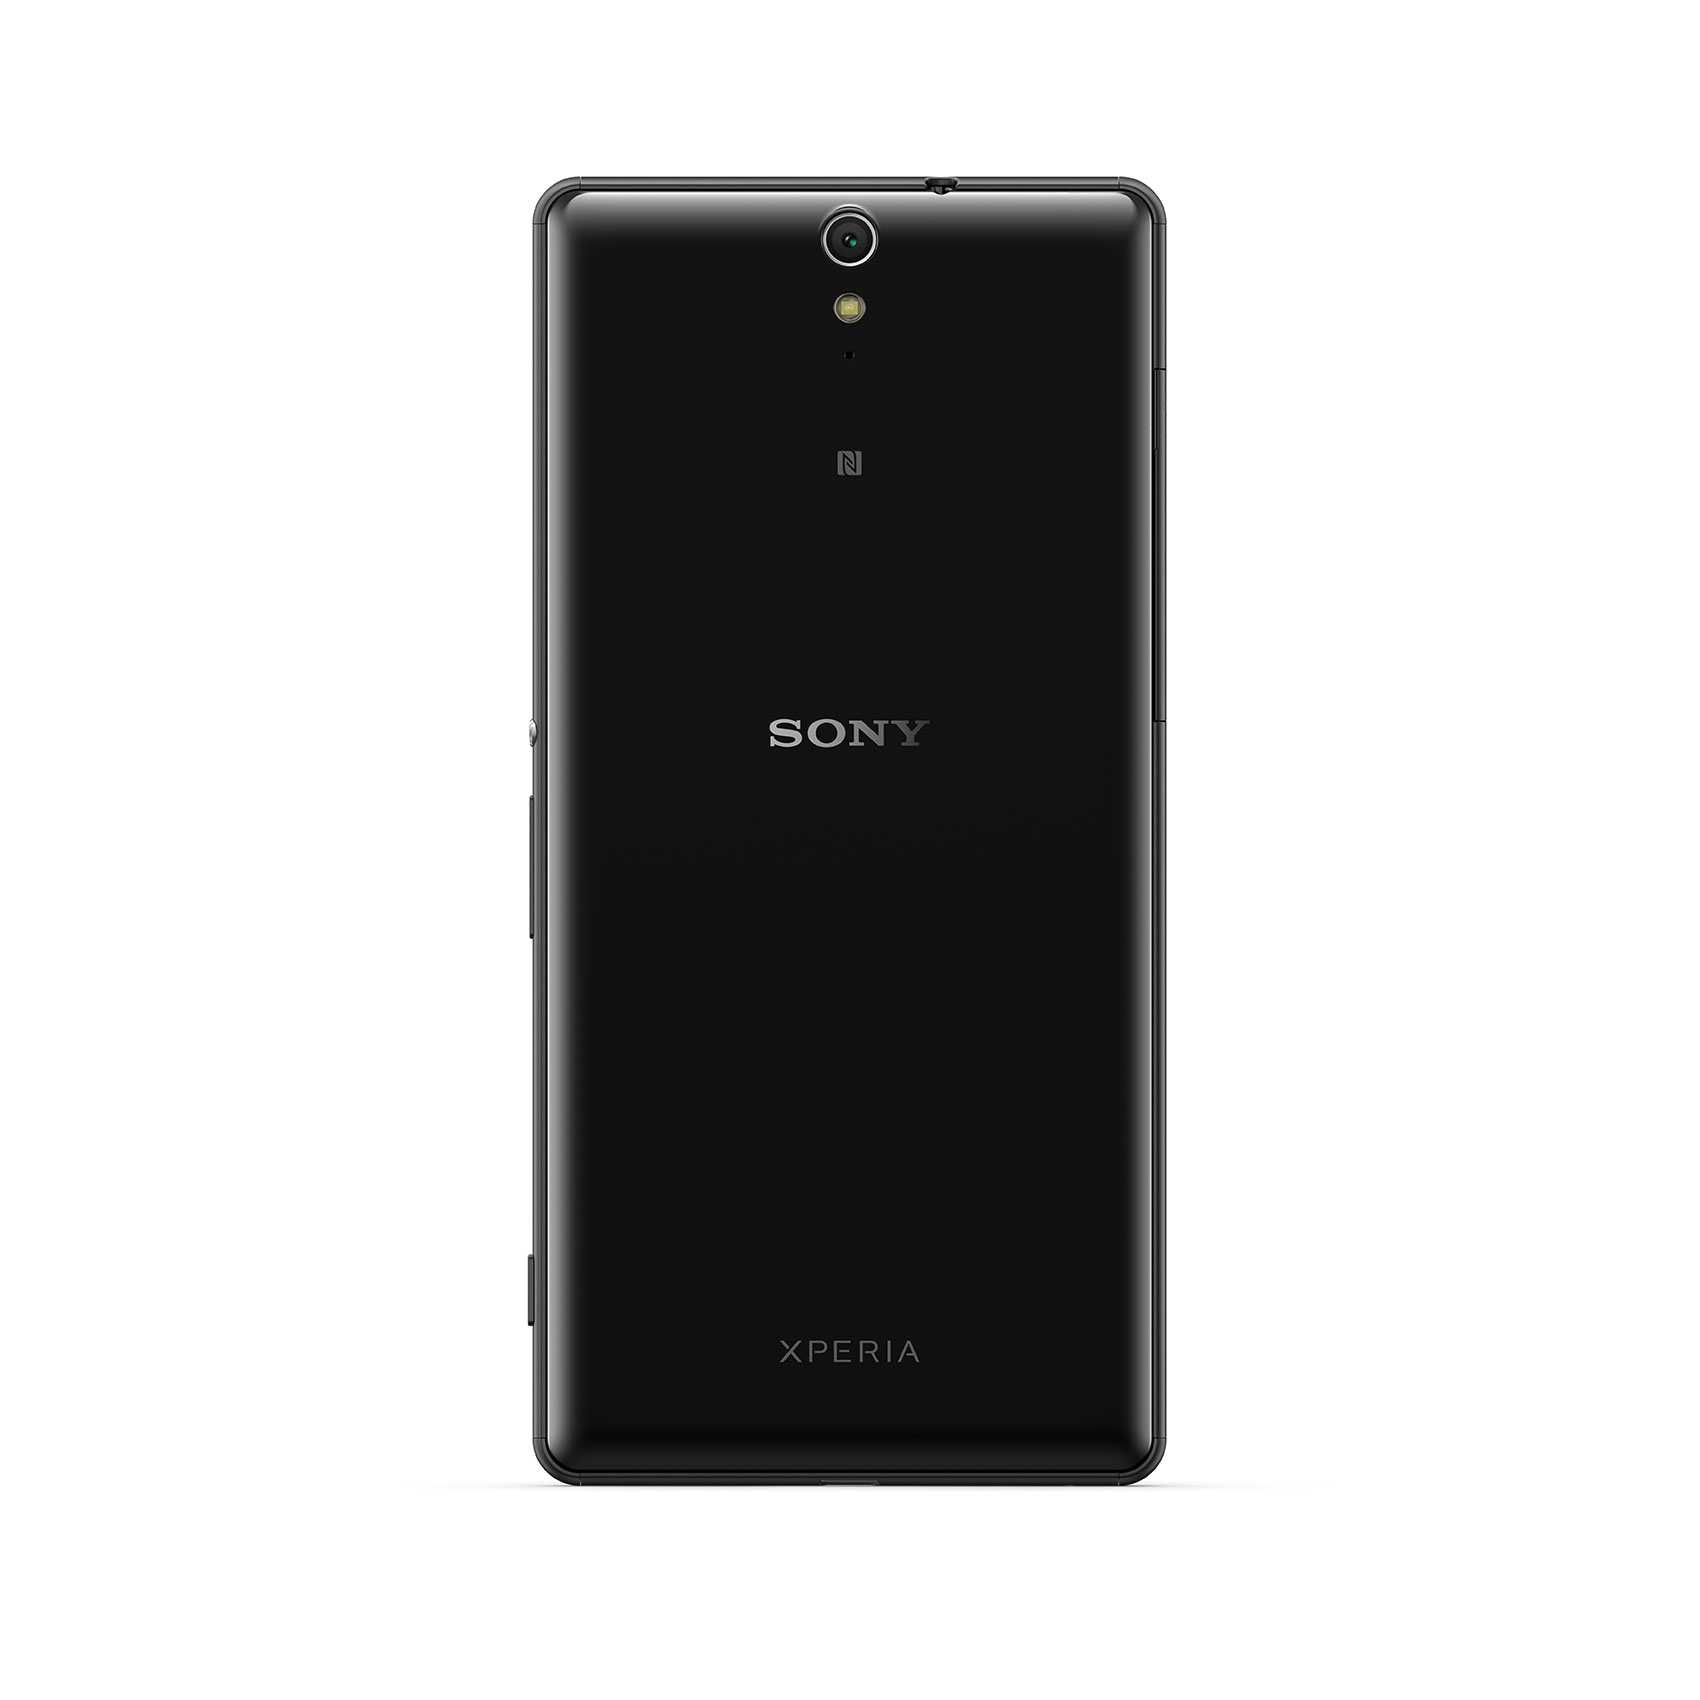smartphone: (526, 176, 1166, 1491)
